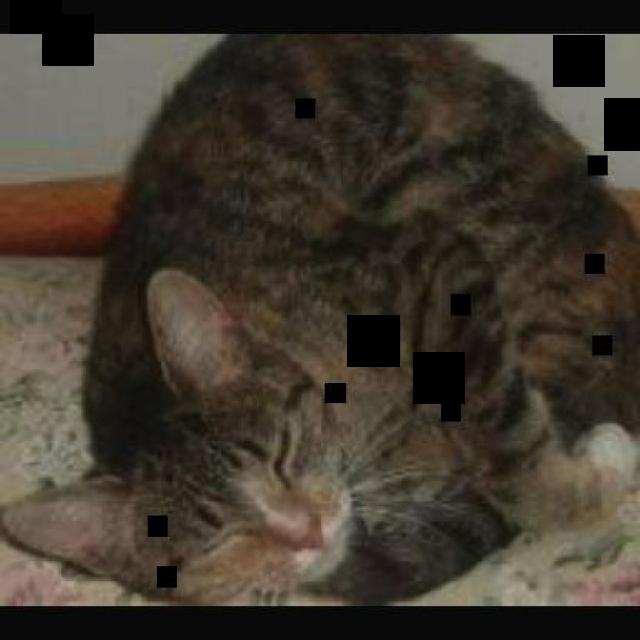unauthorized: (0, 30, 638, 604)
